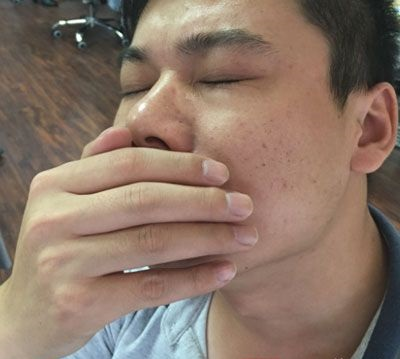face: (108, 1, 347, 279)
